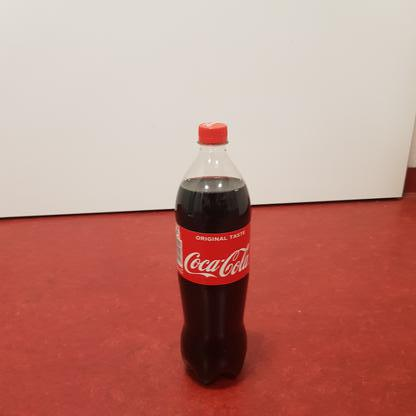coca-cola: (174, 119, 254, 389)
